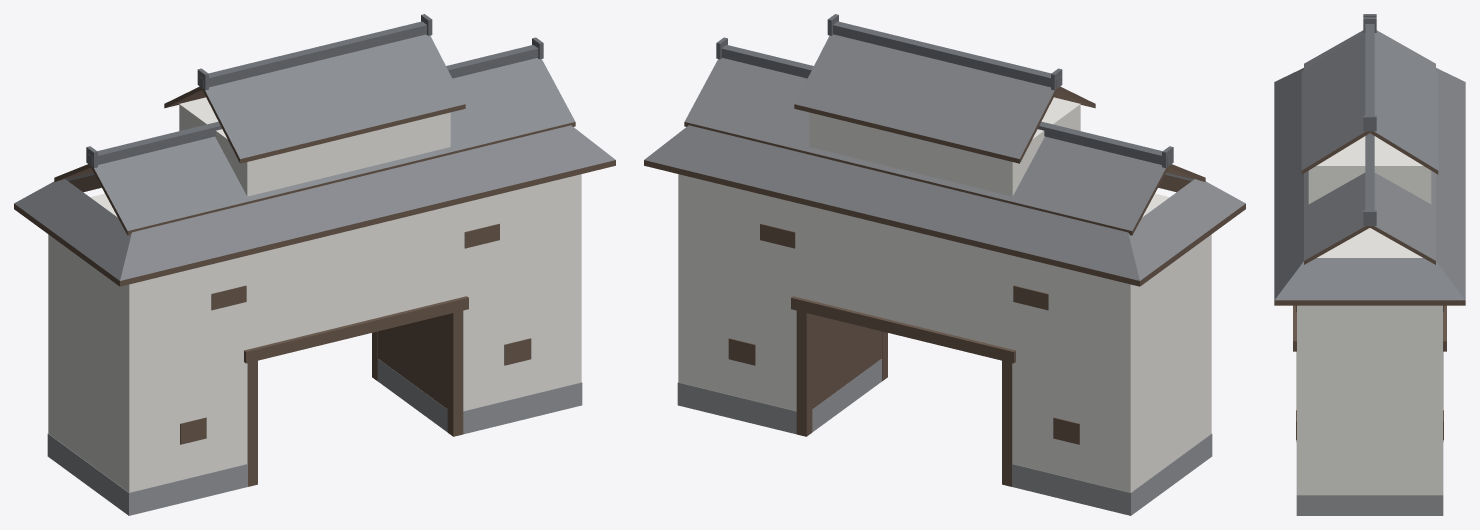
Rendered from HK_GateHouse_Yagura.glb.
3 renders of one model, left to right at view 1: azimuth 30°, elevation 25°; view 2: azimuth 150°, elevation 25°; view 3: azimuth 270°, elevation 25°, orthographic. The views are drawn at different scales.
Visible parts, largest first — view 1: HK_GateHouse_Yagura; view 2: HK_GateHouse_Yagura; view 3: HK_GateHouse_Yagura.
Part boxes in pixels (left/top/right/bottom): HK_GateHouse_Yagura: left=14, top=14, right=615, bottom=515; HK_GateHouse_Yagura: left=644, top=14, right=1245, bottom=515; HK_GateHouse_Yagura: left=1274, top=14, right=1465, bottom=515.
Bounding box in the file's own units: 22.7 × 16.9 × 8.4.
